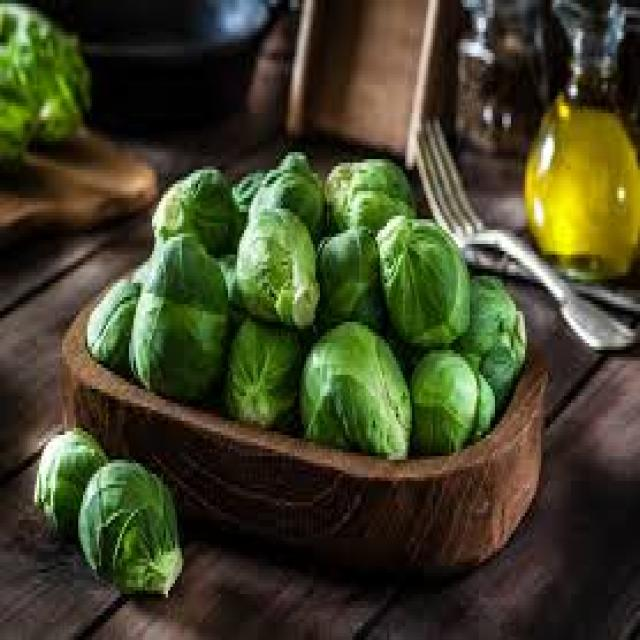biodegradable: (127, 230, 228, 403), (297, 315, 412, 453), (74, 453, 184, 594), (0, 0, 90, 163), (373, 209, 467, 343), (226, 202, 318, 326), (405, 343, 495, 453), (219, 315, 299, 428), (456, 265, 523, 393), (33, 425, 102, 538), (150, 166, 240, 251), (320, 152, 414, 230), (313, 227, 385, 326), (242, 149, 325, 234), (85, 279, 136, 368), (221, 167, 267, 234)
glass: (520, 0, 638, 276), (453, 0, 548, 149)
metal: (412, 110, 633, 347), (463, 241, 638, 304)
